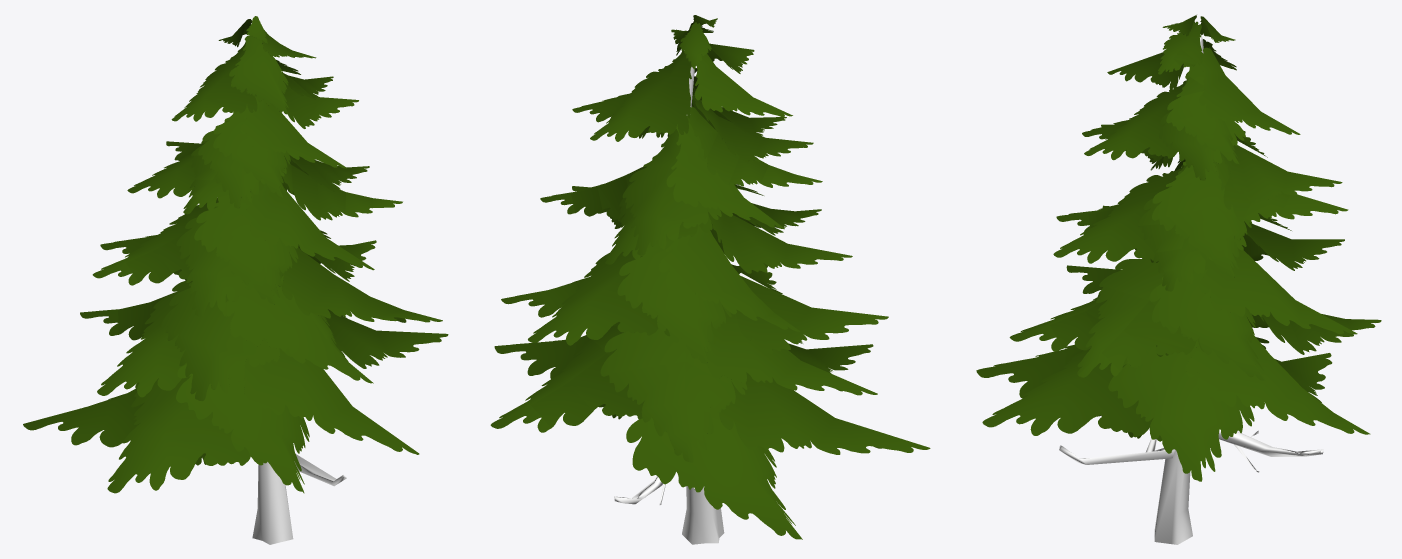
File: pine-2-distant.glb
The picture shows the model from 3 angles, left to right: view 1: azimuth 30°, elevation 25°; view 2: azimuth 150°, elevation 25°; view 3: azimuth 270°, elevation 25°; orthographic projection. The views are drawn at different scales.
Parts seen in each view (by area): view 1: Pine_2; view 2: Pine_2; view 3: Pine_2.
Boxes of the visible parts, left/top/right/bottom form: Pine_2: left=23, top=16, right=448, bottom=544; Pine_2: left=490, top=15, right=930, bottom=544; Pine_2: left=976, top=15, right=1381, bottom=544.
Bounding box in the file's own units: 5.73 × 7.14 × 5.22.
Materials: 2 (1 with a texture image).
